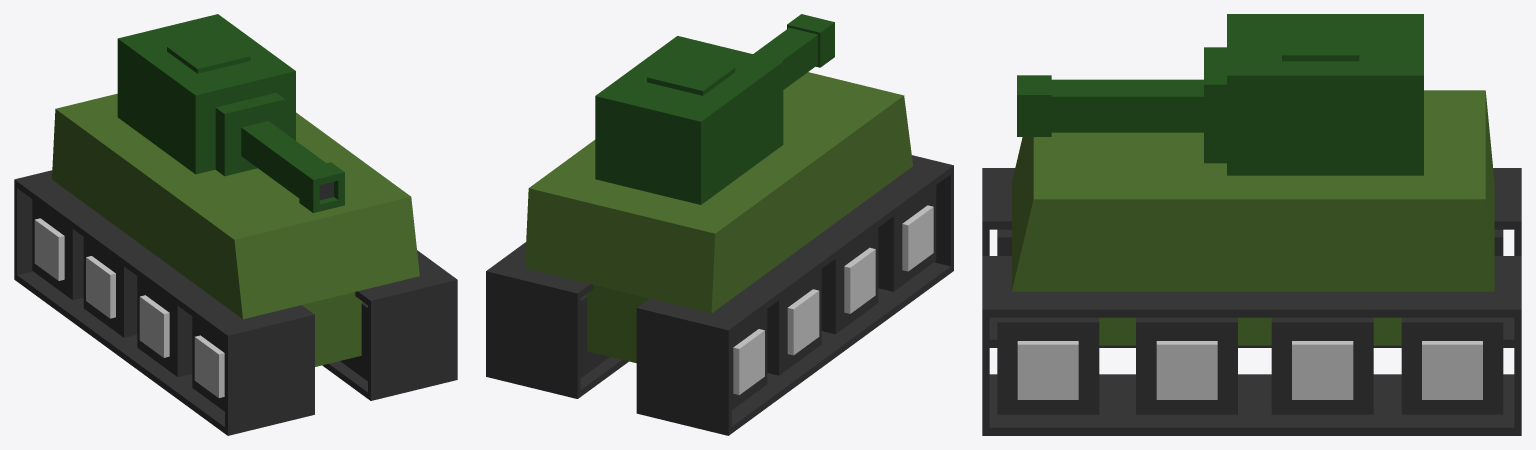
Rendered from cubeTank1.fbx.
3 views of the same model, side by side, from view 1: azimuth 30°, elevation 25°; view 2: azimuth 150°, elevation 25°; view 3: azimuth 270°, elevation 25° (orthographic). The views are drawn at different scales.
Parts seen in each view (by area): view 1: Cube.003, Cube.016, Cube.001, Cube.015, Cube.005, Cube.002, Cube, Cube.020, Cube.021, Cube.017, Cube.006, Cube.007 (+6 smaller); view 2: Cube.003, Cube.016, Cube.001, Cube.015, Cube, Cube.024, Cube.020, Cube.021, Cube.006, Cube.005, Cube.022, Cube.023 (+5 smaller); view 3: Cube.003, Cube.015, Cube.001, Cube.005, Cube.004, Cube.009, Cube.014, Cube.010, Cube.016, Cube.011, Cube.008, Cube.012 (+5 smaller).
Part boxes in pixels (box(x1,y1,x2,y2)): Cube.003: box(52, 93, 419, 319); Cube.016: box(14, 170, 314, 435); Cube.001: box(117, 14, 295, 174); Cube.015: box(322, 250, 457, 400); Cube.005: box(241, 121, 333, 200); Cube.002: box(215, 93, 285, 176); Cube: box(302, 292, 362, 366); Cube.020: box(137, 276, 192, 376); Cube.021: box(83, 237, 137, 337); Cube.017: box(32, 199, 83, 300); Cube.006: box(167, 34, 250, 73); Cube.007: box(299, 162, 344, 212); Cube.003: box(525, 72, 912, 313); Cube.016: box(636, 155, 953, 435); Cube.001: box(595, 36, 783, 204); Cube.015: box(486, 242, 628, 398); Cube: box(586, 285, 649, 363); Cube.024: box(878, 185, 936, 291); Cube.020: box(821, 228, 878, 334); Cube.021: box(767, 269, 821, 375); Cube.006: box(647, 54, 735, 95); Cube.005: box(753, 27, 817, 89); Cube.022: box(787, 289, 819, 355); Cube.023: box(902, 205, 933, 271); Cube.003: box(1012, 90, 1494, 291); Cube.015: box(982, 256, 1521, 435); Cube.001: box(1227, 14, 1423, 175); Cube.005: box(1051, 79, 1203, 132); Cube.004: box(997, 317, 1099, 414); Cube.009: box(1271, 317, 1373, 414); Cube.014: box(1401, 317, 1503, 414); Cube.010: box(1136, 317, 1237, 414); Cube.016: box(982, 168, 1521, 347); Cube.011: box(1156, 341, 1217, 399); Cube.008: box(1292, 341, 1353, 399); Cube.012: box(1017, 341, 1078, 399).
Size of the model in its own units: 6.57 by 7.06 by 10.59.
